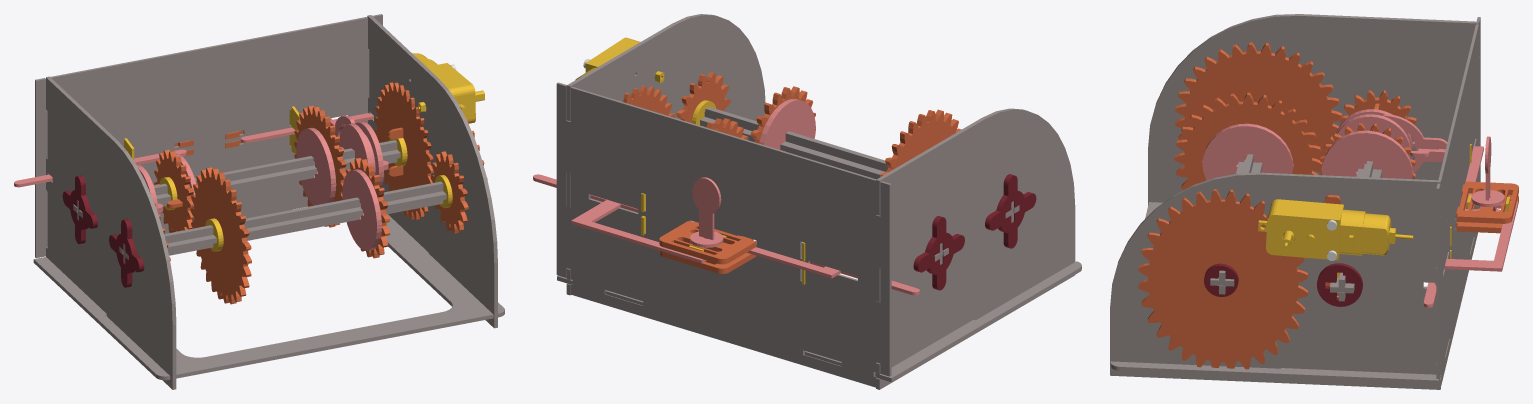
Rendered from asset.gltf.
The picture shows the model from 3 angles, left to right: view 1: azimuth 30°, elevation 25°; view 2: azimuth 150°, elevation 25°; view 3: azimuth 270°, elevation 25°; orthographic projection. The views are drawn at different scales.
Visible parts, largest first — view 1: parede_fundo, lateral_esquerda, lateral_direita, fundo, engrenagem_motora_28, engrenagem_acoplador_32, eixo_pt_1, eixo_pt_2, engrenagem_acoplador_24, eixo_pt_1.001, engrenagem_acoplador_28, engrenagem_motora_16 (+12 smaller); view 2: parede_fundo, lateral_esquerda, lateral_direita, fundo, engrenagem_motora_28, guia_cambio.001, eixo_pt_1, barra_cambio_2, presilhas_eixo, presilhas_eixo.001, presilha_externa.001, engrenagem_motora_16 (+8 smaller); view 3: lateral_direita, lateral_esquerda, engrenagem_movida, engrenagem_motora_32, parede_fundo, motor, engrenagem_motora_28, fundo, presilha_externa.006, presilha_externa.002, guia_cambio.001, barra_cambio_2 (+13 smaller).
Part boxes in pixels (left/top/right/bottom): parede_fundo: left=35, top=14, right=382, bottom=258; lateral_esquerda: left=46, top=76, right=176, bottom=389; lateral_direita: left=367, top=15, right=497, bottom=328; fundo: left=33, top=214, right=504, bottom=380; engrenagem_motora_28: left=190, top=167, right=251, bottom=304; engrenagem_acoplador_32: left=374, top=82, right=433, bottom=219; eixo_pt_1: left=123, top=181, right=443, bottom=263; eixo_pt_2: left=119, top=191, right=446, bottom=259; engrenagem_acoplador_24: left=153, top=149, right=194, bottom=232; eixo_pt_1.001: left=77, top=140, right=397, bottom=219; engrenagem_acoplador_28: left=294, top=105, right=346, bottom=227; engrenagem_motora_16: left=430, top=151, right=468, bottom=233; parede_fundo: left=556, top=82, right=891, bottom=387; lateral_esquerda: left=876, top=108, right=1075, bottom=389; lateral_direita: left=566, top=14, right=765, bottom=295; fundo: left=557, top=261, right=1081, bottom=382; engrenagem_motora_28: left=880, top=109, right=961, bottom=177; guia_cambio.001: left=659, top=221, right=756, bottom=264; eixo_pt_1: left=704, top=107, right=1013, bottom=222; barra_cambio_2: left=533, top=174, right=706, bottom=263; presilhas_eixo: left=985, top=174, right=1036, bottom=248; presilhas_eixo.001: left=913, top=216, right=964, bottom=290; presilha_externa.001: left=759, top=98, right=815, bottom=148; engrenagem_motora_16: left=676, top=71, right=730, bottom=122; lateral_direita: left=1110, top=172, right=1440, bottom=389; lateral_esquerda: left=1148, top=14, right=1478, bottom=205; engrenagem_movida: left=1138, top=189, right=1308, bottom=369; engrenagem_motora_32: left=1175, top=42, right=1342, bottom=172; parede_fundo: left=1436, top=17, right=1480, bottom=385; motor: left=1258, top=199, right=1413, bottom=260; engrenagem_motora_28: left=1174, top=92, right=1322, bottom=189; fundo: left=1110, top=202, right=1473, bottom=384; presilha_externa.006: left=1321, top=130, right=1413, bottom=176; presilha_externa.002: left=1202, top=123, right=1293, bottom=169; guia_cambio.001: left=1455, top=181, right=1518, bottom=223; barra_cambio_2: left=1423, top=201, right=1518, bottom=307.
Size of the model in its own units: 242 by 116 by 207.
